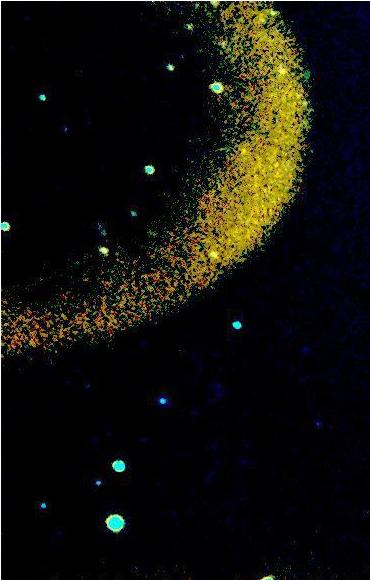star: (229, 137, 259, 167)
